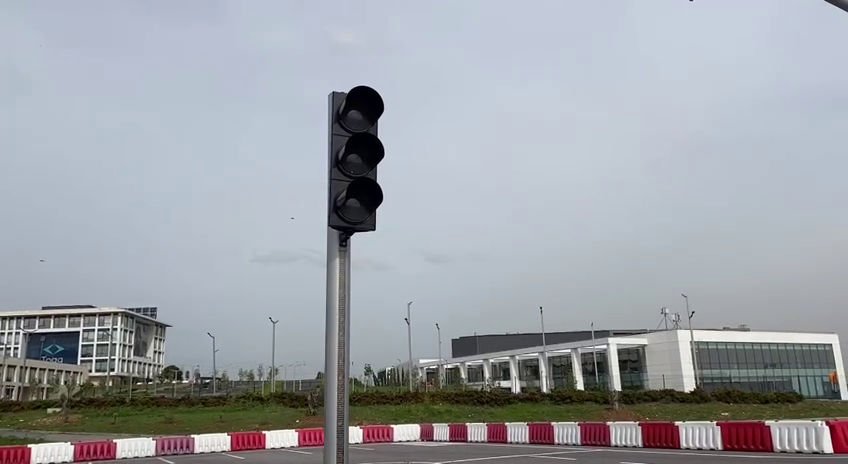trafficLight: (319, 80, 389, 243)
